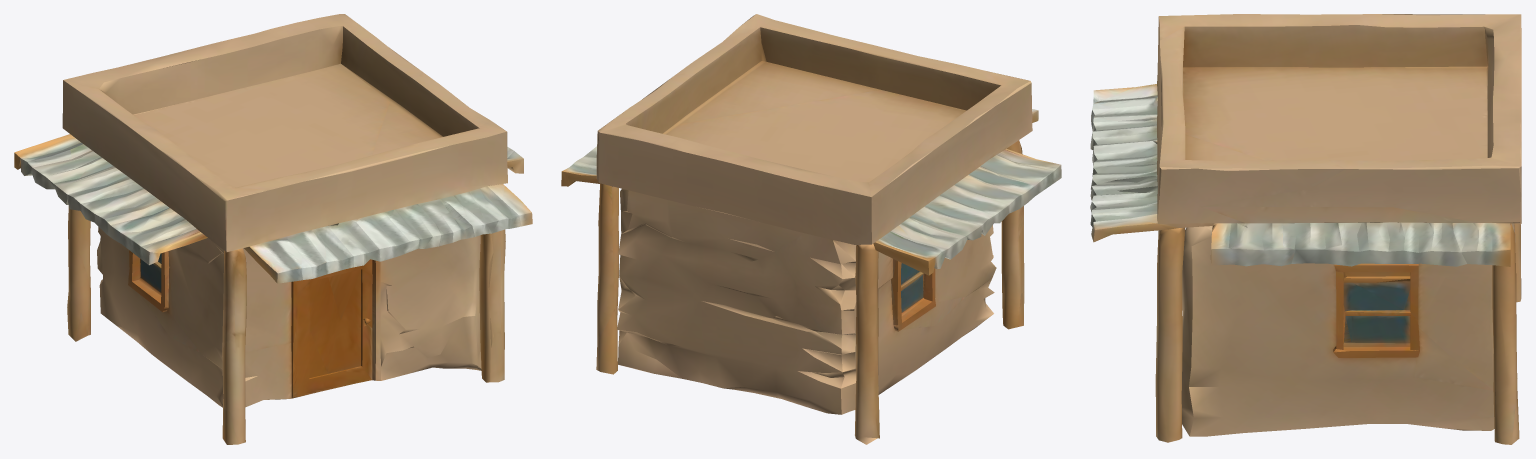
Rendered from desertRooftopV2.glb.
3 views of the same model, side by side, from view 1: azimuth 30°, elevation 25°; view 2: azimuth 150°, elevation 25°; view 3: azimuth 270°, elevation 25° (orthographic). The views are drawn at different scales.
Visible parts, largest first — view 1: model; view 2: model; view 3: model.
Part boxes in pixels (x1,y1,x2,y2): model: (14,14,532,444); model: (561,14,1061,444); model: (1090,14,1521,444).
Size of the model in its own units: 1.9 by 1.22 by 1.69.
1 material, 1 textured.
